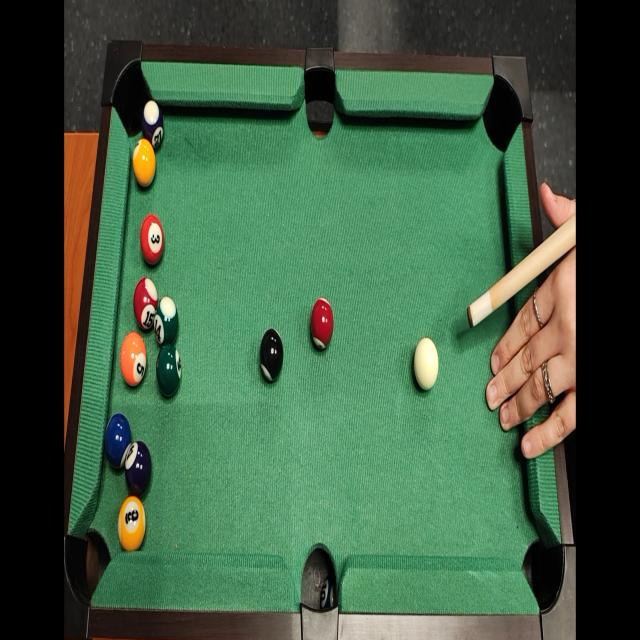cue ball: (411, 334, 439, 394)
other: (119, 326, 148, 400), (103, 409, 135, 473), (117, 493, 146, 556), (132, 274, 160, 334), (125, 439, 153, 496), (128, 134, 158, 187), (259, 327, 285, 387), (140, 209, 166, 265), (157, 345, 184, 398), (138, 98, 166, 149), (155, 293, 182, 345), (309, 293, 334, 346)
